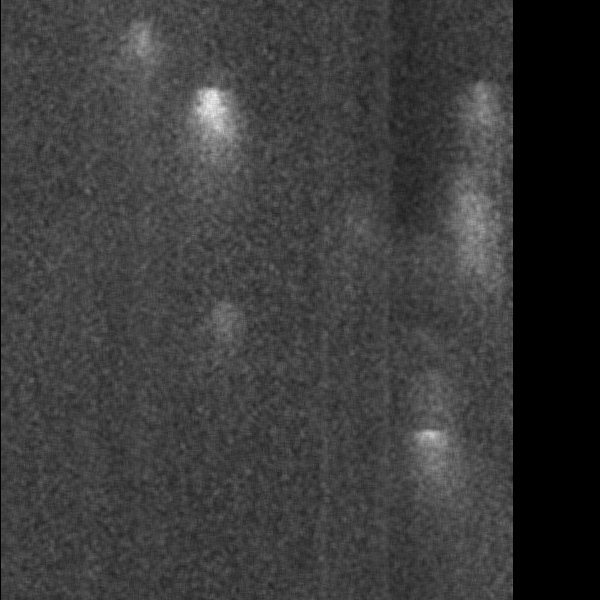spark: (177, 83, 243, 220), (194, 294, 237, 373), (127, 13, 157, 97), (400, 423, 456, 468), (469, 85, 499, 126)
